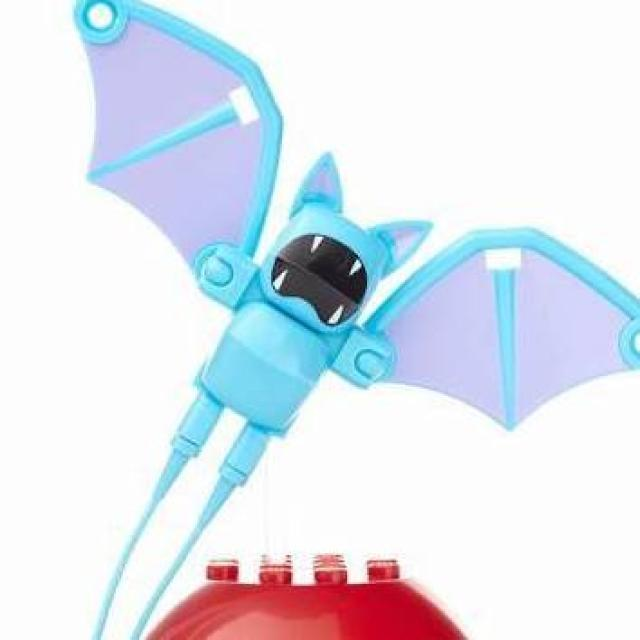Zubat: (150, 118, 504, 494)
